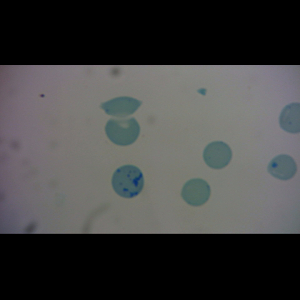aggregate reticulocyte: (111, 164, 145, 199)
erythrocyte: (103, 115, 142, 147), (266, 153, 298, 181)
punctate reticulocyte: (99, 95, 143, 119), (203, 140, 233, 170), (181, 178, 211, 207)
